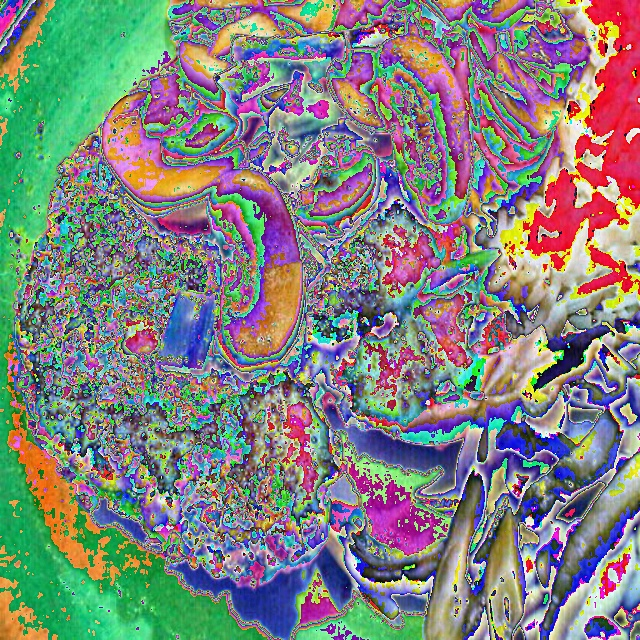background: (13, 0, 639, 640)
